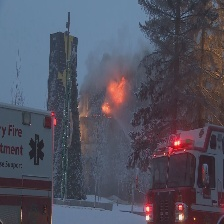fire: (101, 77, 126, 113)
smoke: (78, 29, 164, 83)
